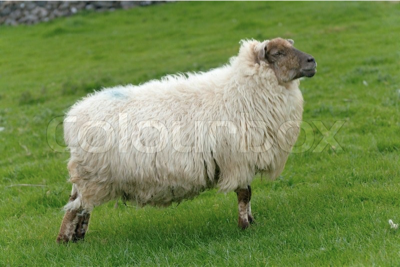koyun: (61, 43, 317, 240)
